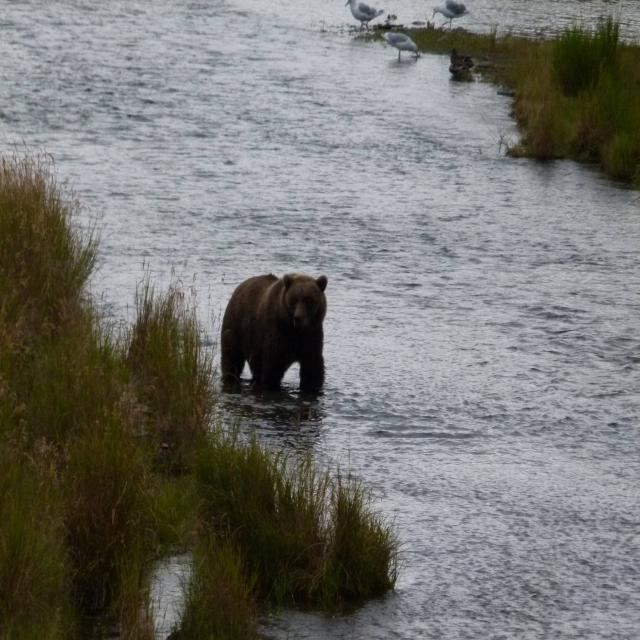bear face: (222, 273, 327, 388)
